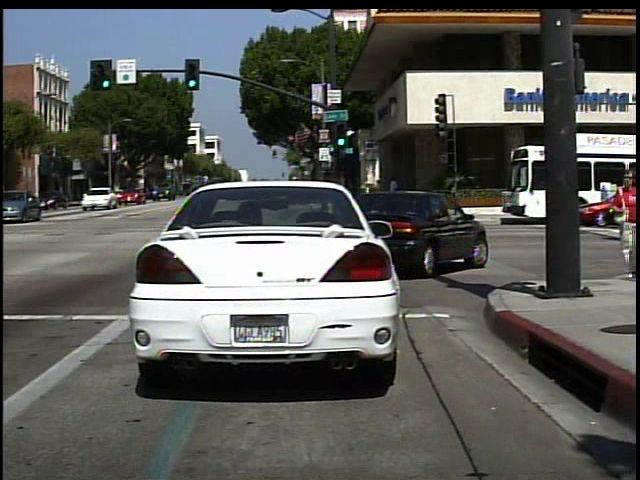person: (608, 167, 639, 279), (385, 172, 403, 214)
